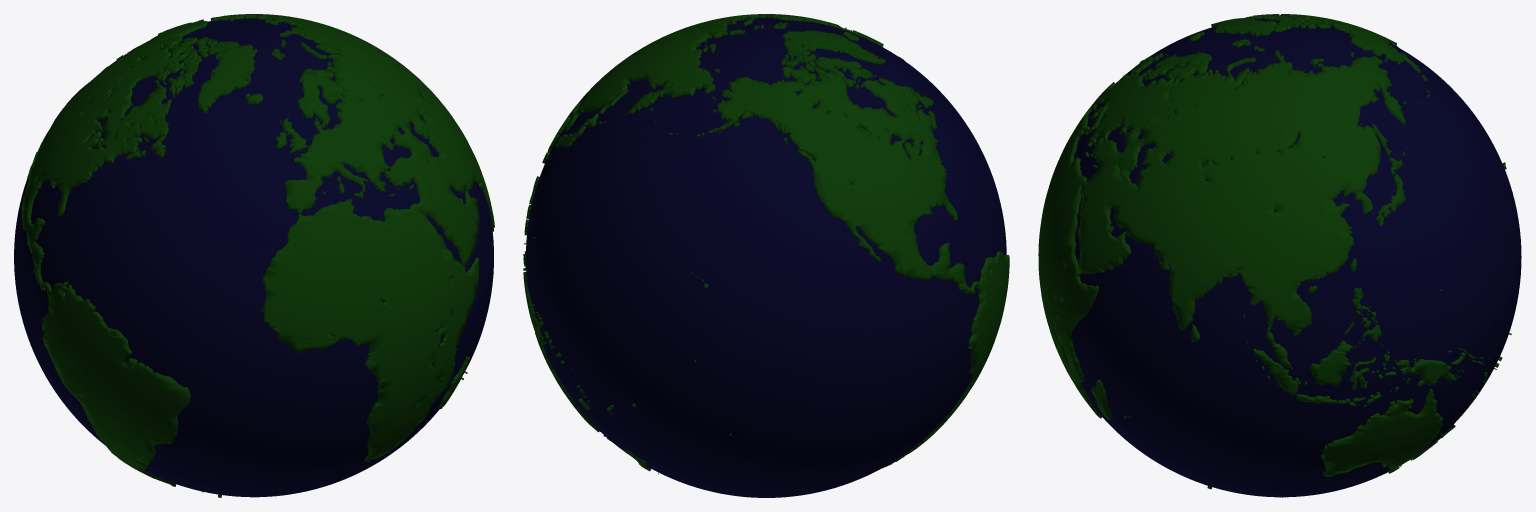
The model's file is earth.obj.
3 views of the same model, side by side, from view 1: azimuth 30°, elevation 25°; view 2: azimuth 150°, elevation 25°; view 3: azimuth 270°, elevation 25° (orthographic).
Visible parts, largest first — view 1: Icosphere, world2; view 2: Icosphere, world2; view 3: Icosphere, world2.
Boxes of the visible parts, x1,y1,x2,y2 form: Icosphere: [14, 18, 493, 497]; world2: [21, 14, 494, 497]; Icosphere: [526, 17, 1006, 497]; world2: [523, 14, 1009, 474]; Icosphere: [1057, 18, 1521, 497]; world2: [1038, 14, 1511, 497].
Size of the model in its own units: 2 by 2 by 1.99.
